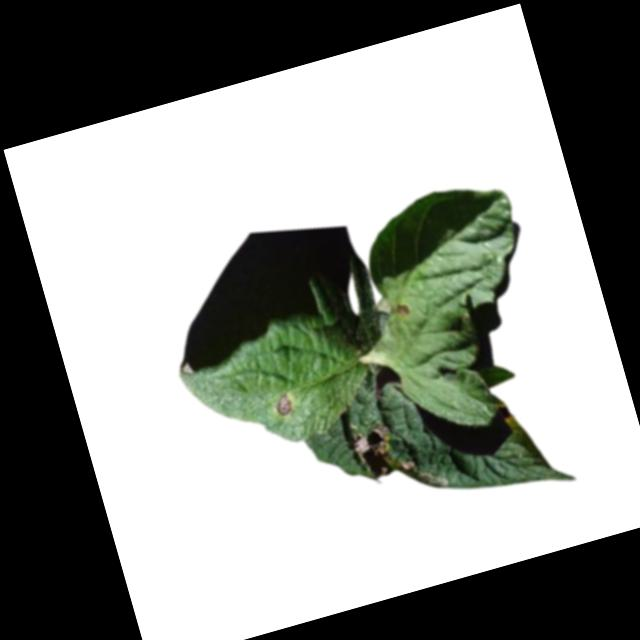Early_blight: (349, 420, 404, 485), (274, 393, 293, 417), (396, 303, 411, 320)
